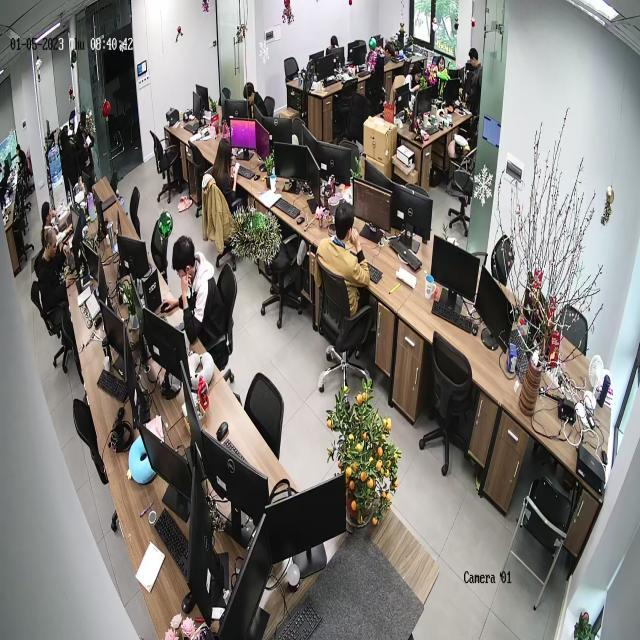person: (158, 235, 231, 364), (316, 200, 371, 319), (201, 137, 239, 247), (33, 228, 70, 321), (74, 108, 101, 197), (368, 41, 397, 114), (241, 75, 276, 131), (465, 48, 482, 116), (38, 200, 59, 235), (407, 63, 424, 97)
